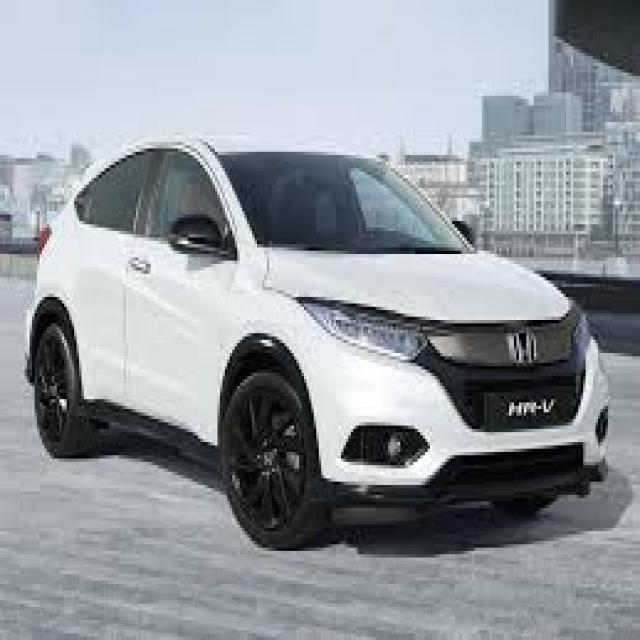car: (17, 144, 626, 559)
